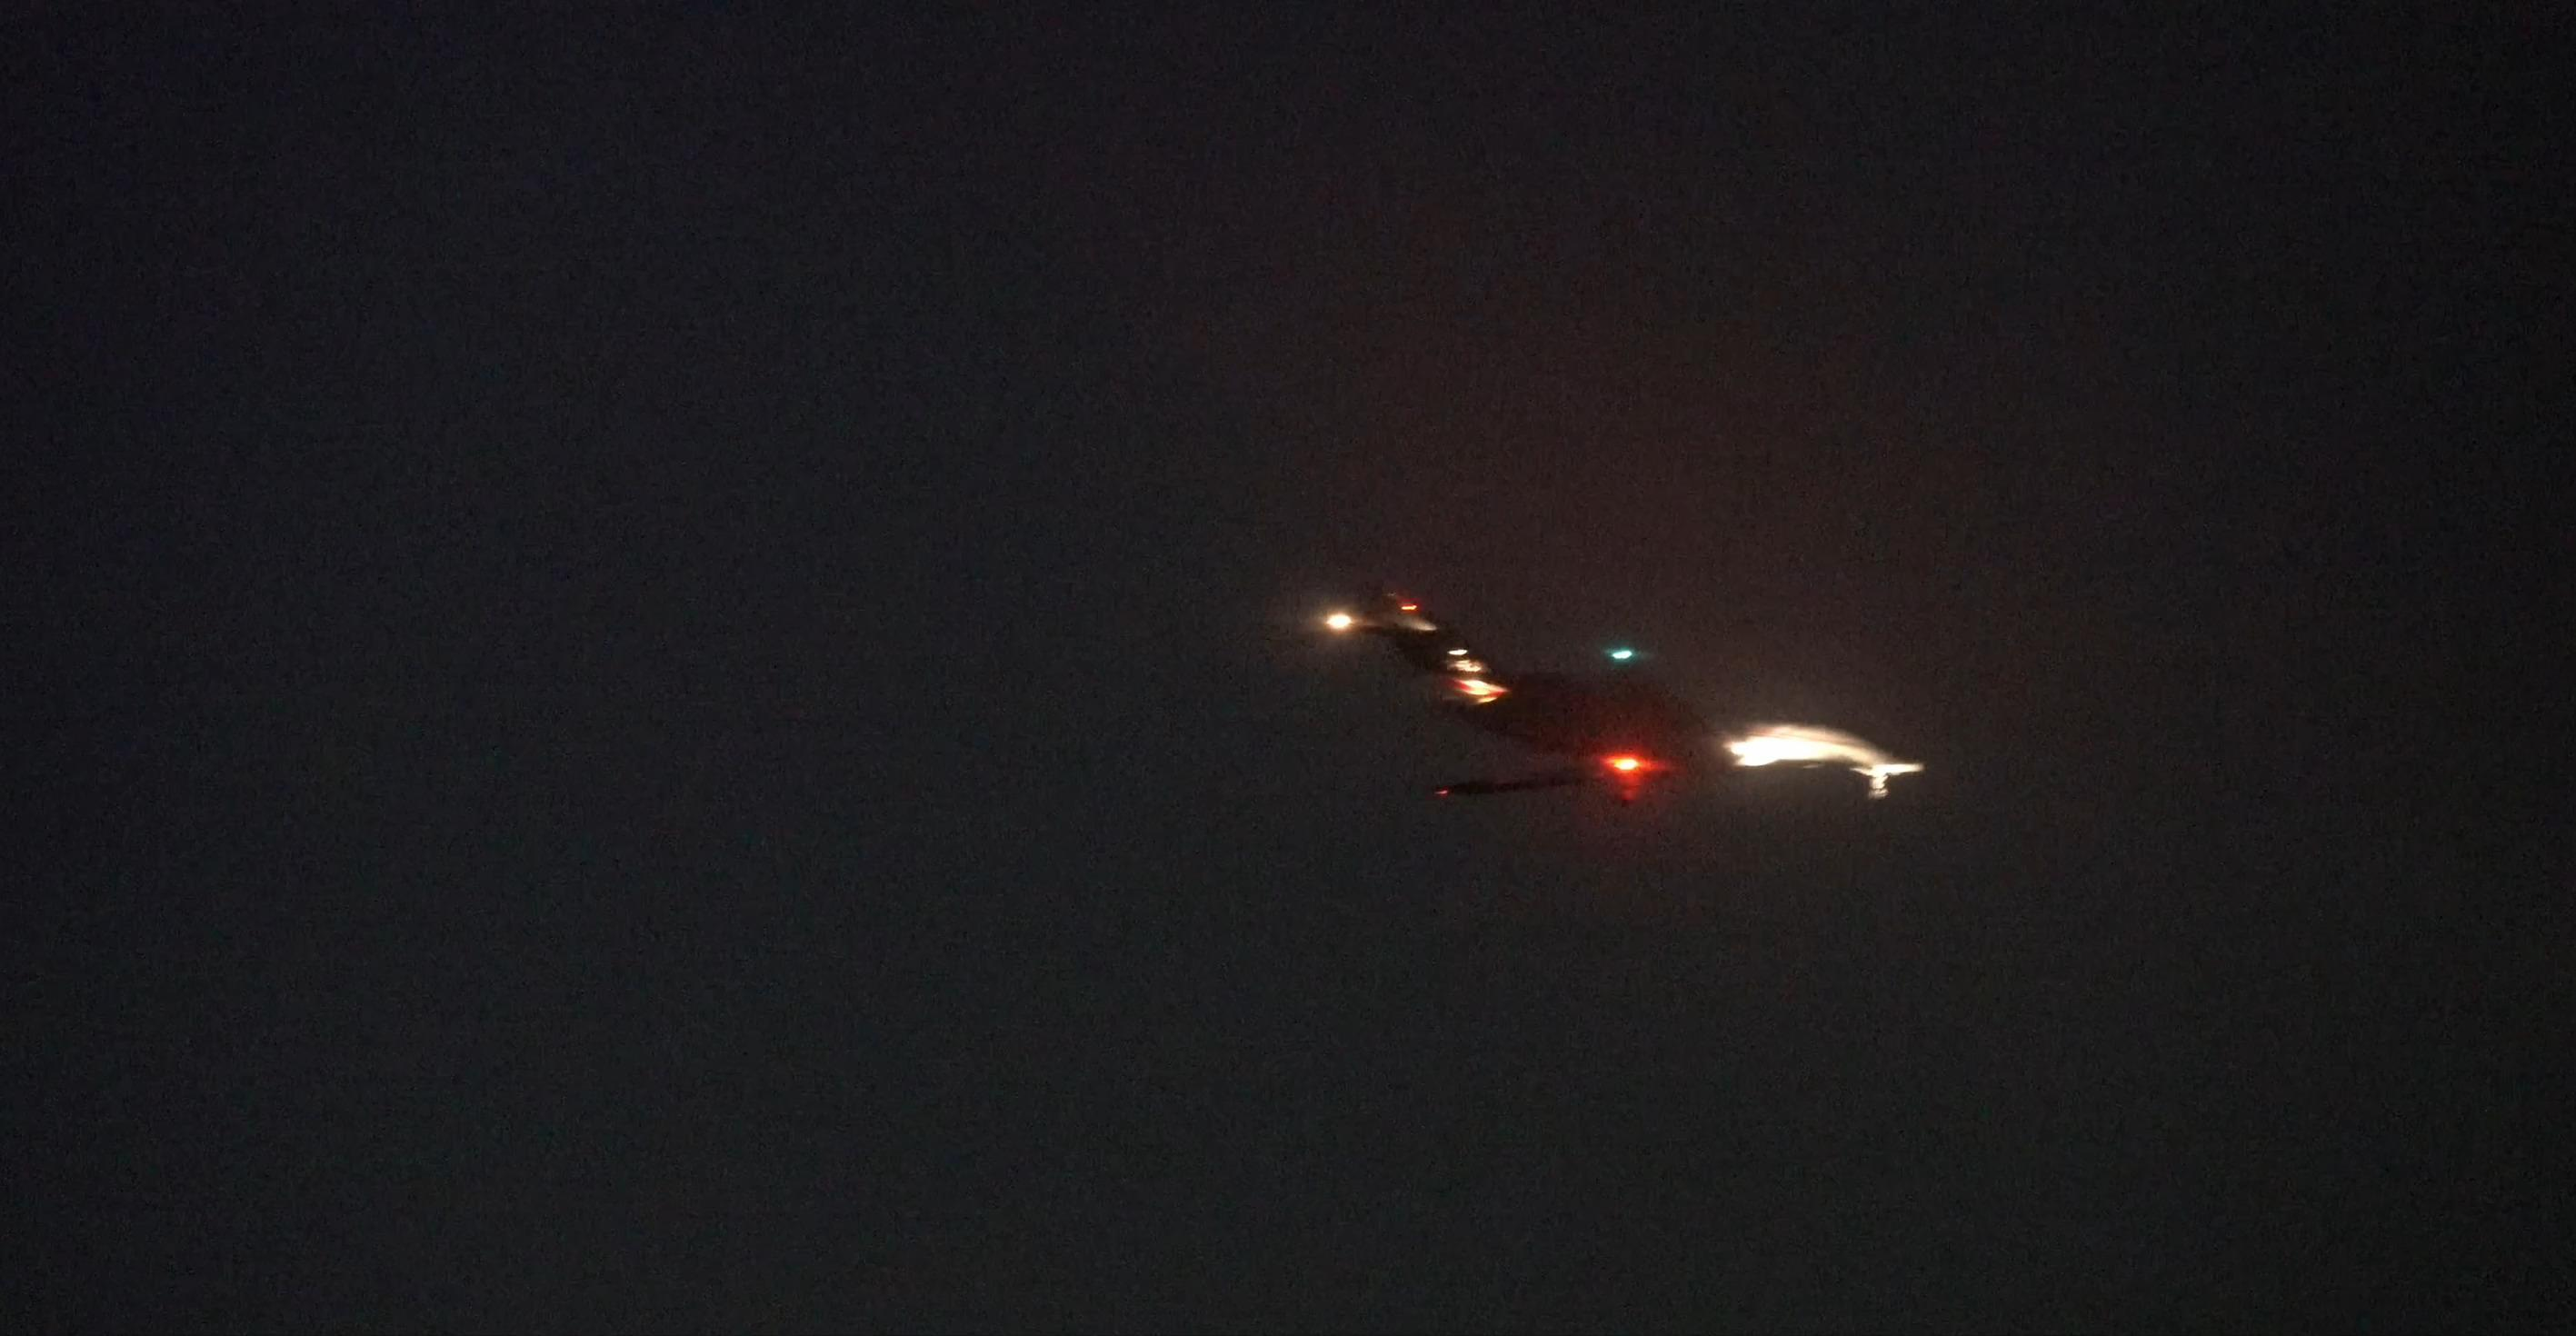Plane: (1395, 557, 1872, 855)
